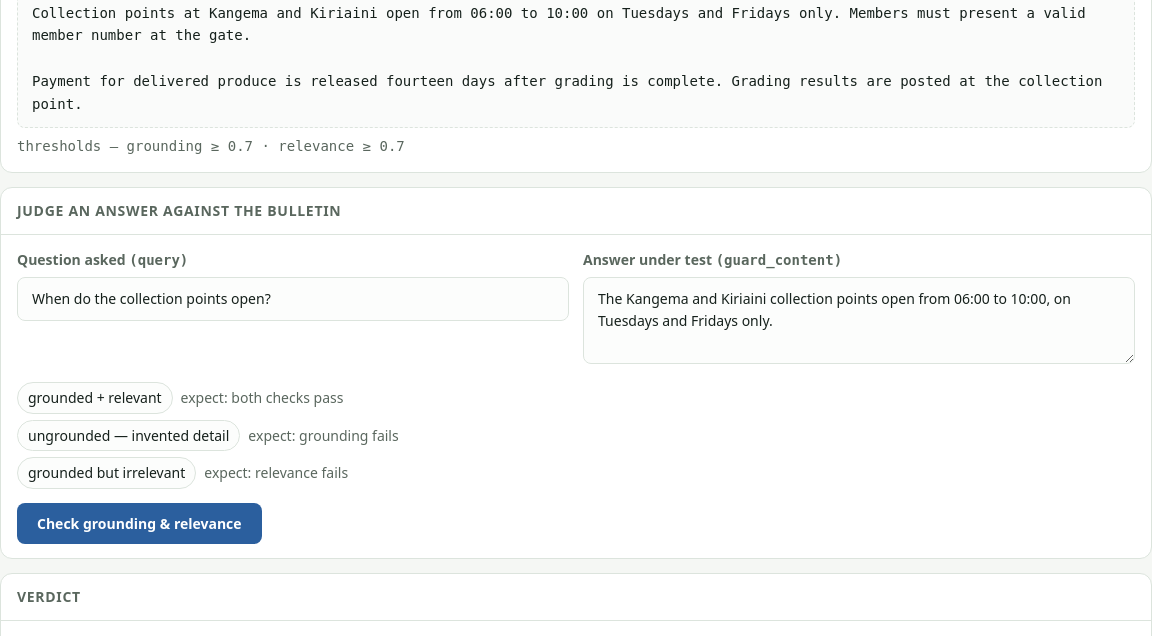
Test: the grounding tool › shows grounding passing while relevance fails — two independent checks
Step 1. Click the button "Check grounding & relevance" → (139, 524), box [17,503,262,544]
(page scrolled)
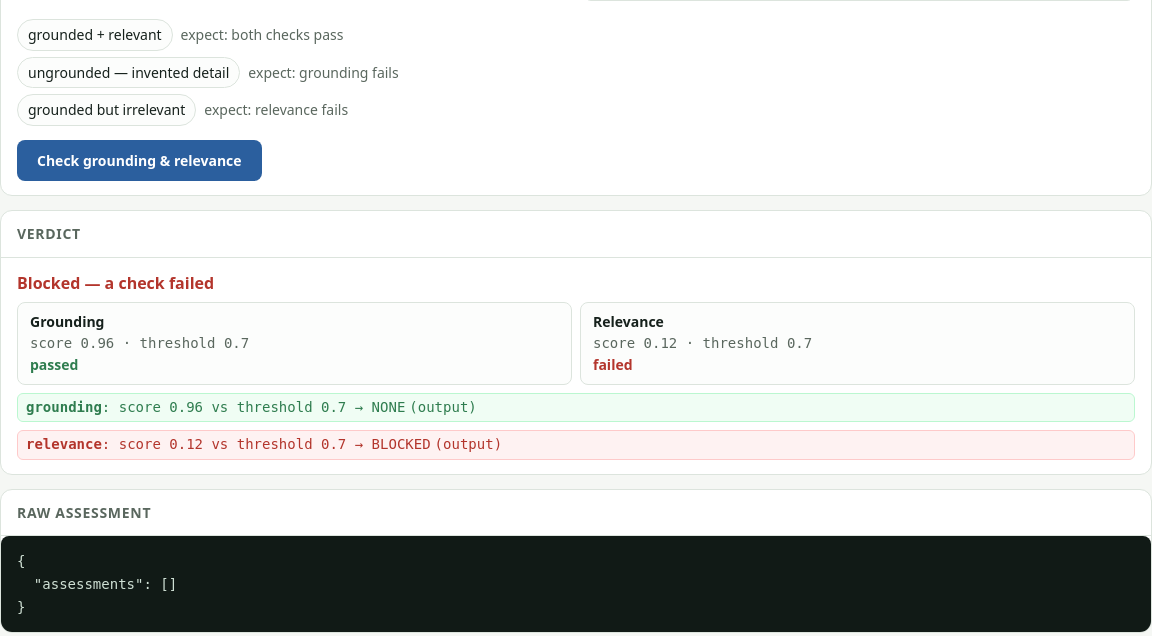
Expected: the text "Blocked — a check failed" is shown, [17,272,214,294]
Expected: the text "passed" is shown, [30,356,78,374]
Expected: the text "failed" is shown, [593,356,633,374]
